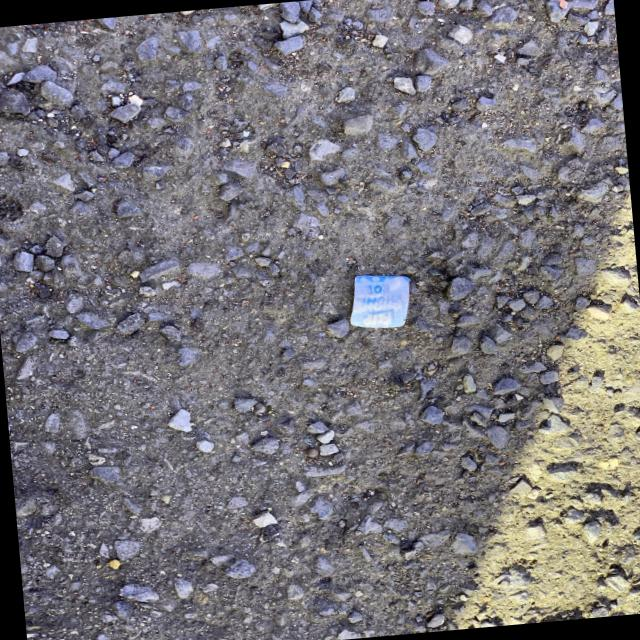less trash: (350, 274, 410, 328)
